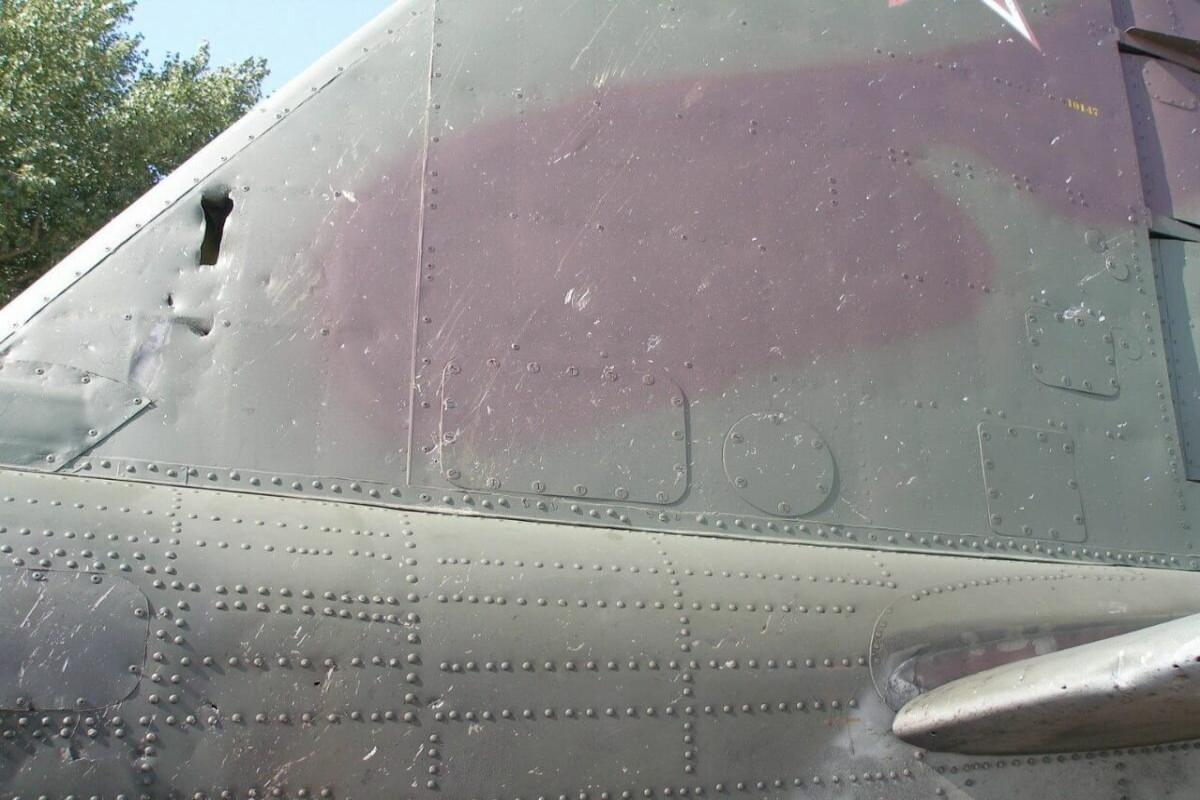Fuselage_damage: (195, 184, 239, 270), (186, 314, 217, 339), (165, 290, 176, 309)
